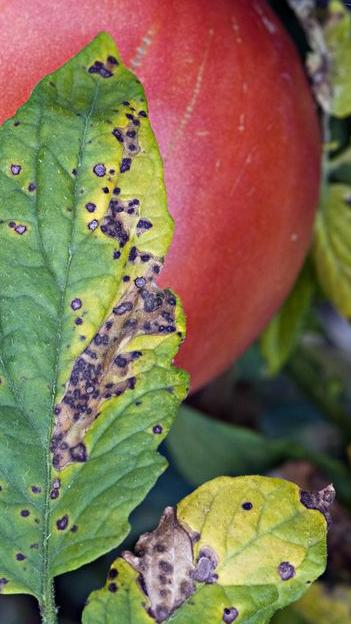Tomato Septoria leaf spot: (0, 40, 199, 602), (83, 473, 341, 624)
